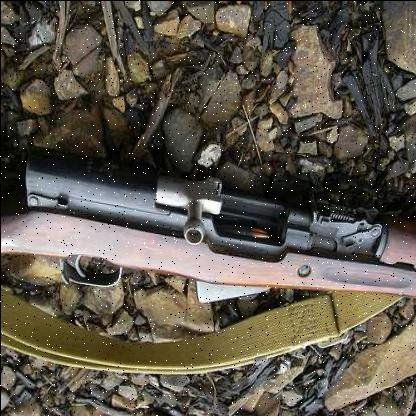rifle: (1, 147, 416, 324)
